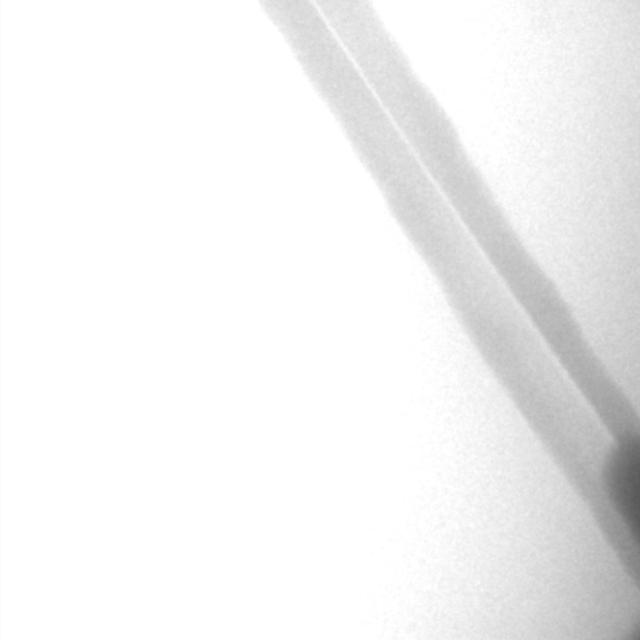broken arc: (315, 4, 618, 444)
